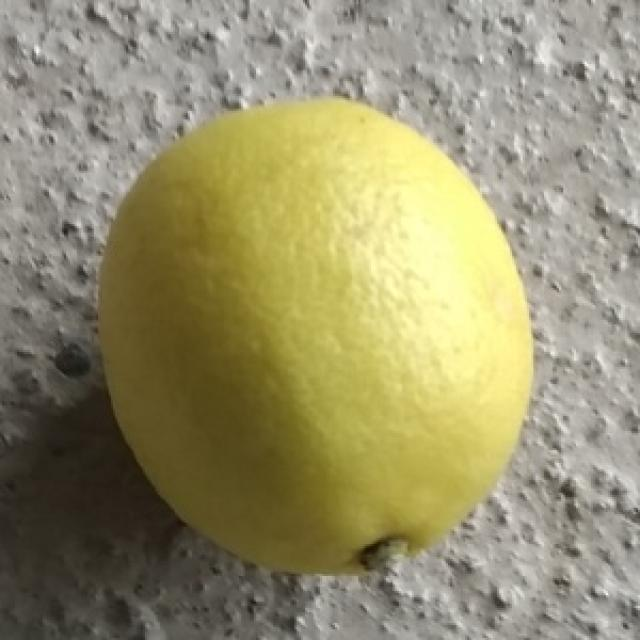Ripe: (89, 94, 544, 587)
